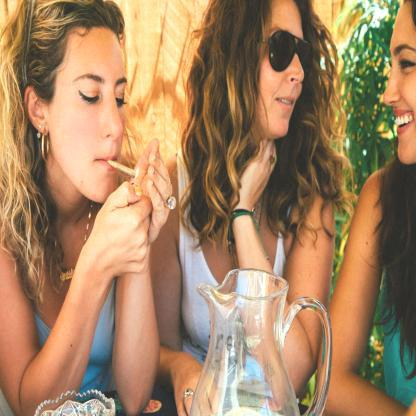cigarette: (107, 158, 138, 179)
person: (0, 0, 152, 413), (171, 1, 334, 325)
